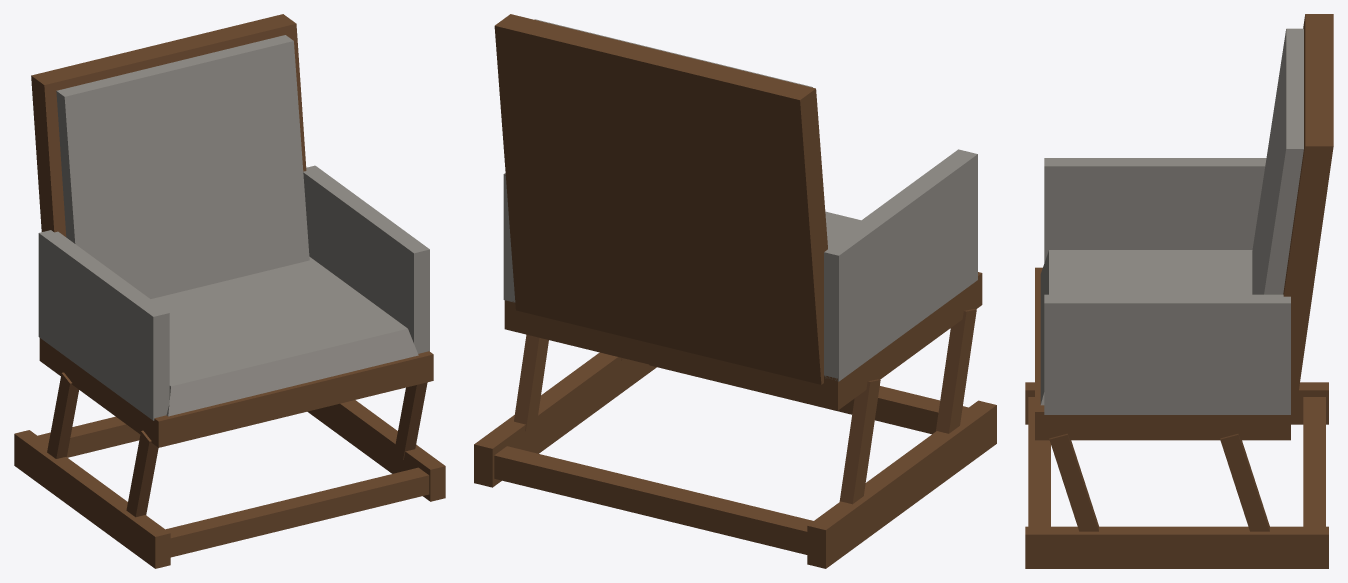
Rendered from FN_Chair_Glider.glb.
3 renders of one model, left to right at view 1: azimuth 30°, elevation 25°; view 2: azimuth 150°, elevation 25°; view 3: azimuth 270°, elevation 25°, orthographic. The views are drawn at different scales.
Visible parts, largest first — view 1: FN_Chair_Glider; view 2: FN_Chair_Glider; view 3: FN_Chair_Glider.
Boxes of the visible parts, x1,y1,x2,y2 form: FN_Chair_Glider: (14, 14, 445, 568); FN_Chair_Glider: (474, 14, 996, 568); FN_Chair_Glider: (1025, 14, 1333, 568).
Bounding box in the file's own units: 0.76 × 0.96 × 0.65.
1 material, 1 textured.
